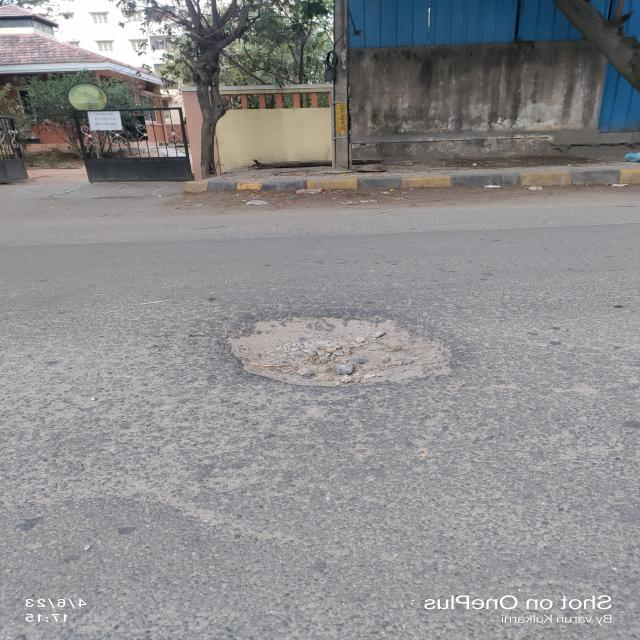potholes: (207, 318, 460, 380)
